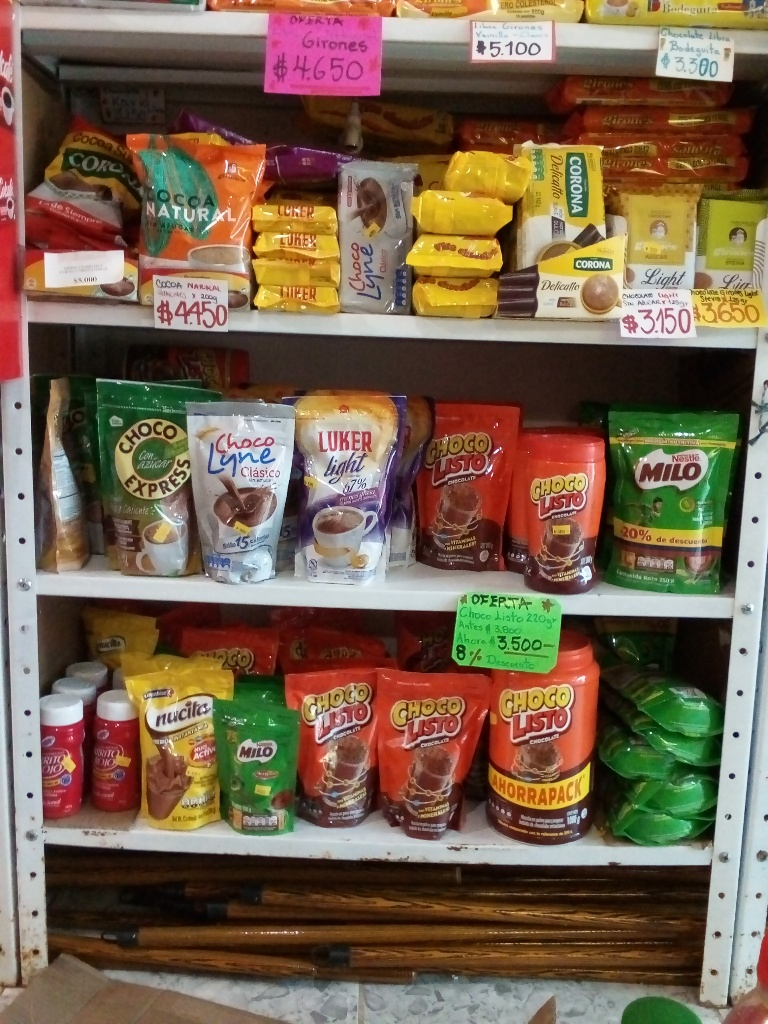COL0170103TRR00100: (488, 626, 600, 854)
